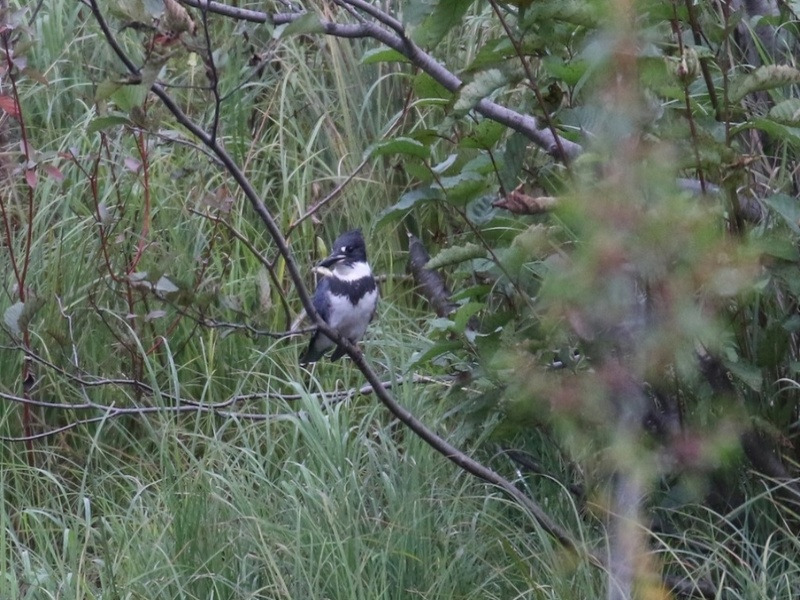kingfisher: (300, 225, 383, 364)
